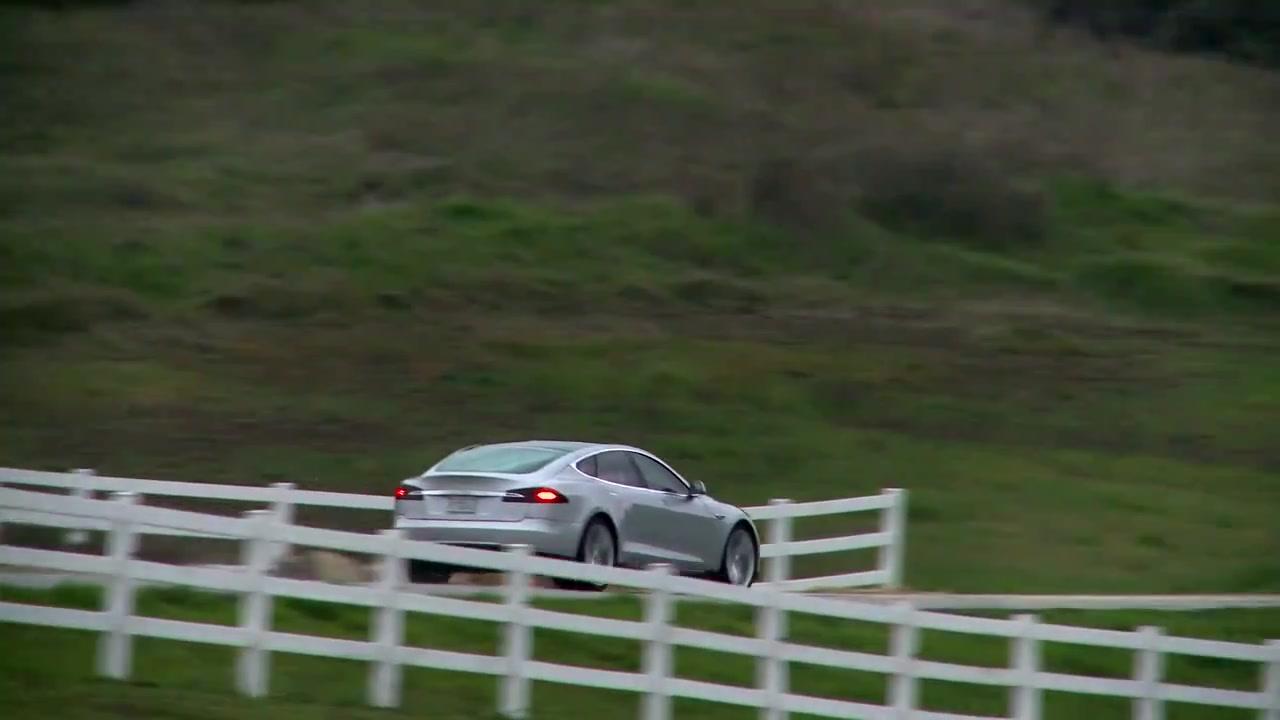car: (391, 440, 768, 603)
